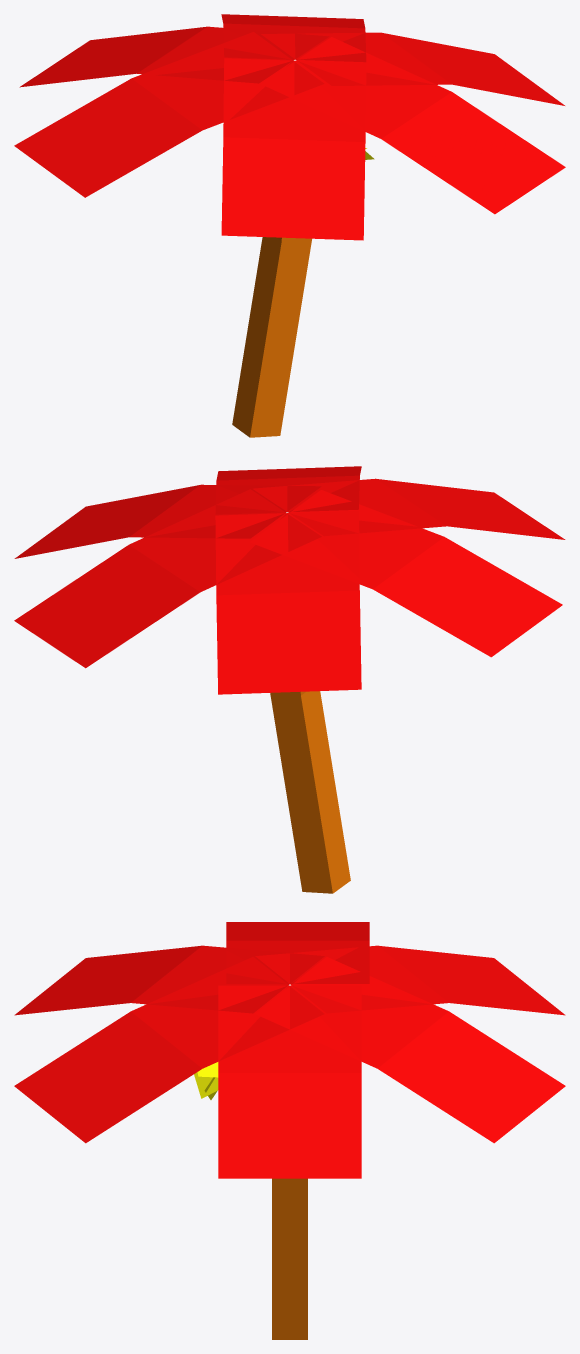
Rendered from MAYAPPLE.obj.
The picture shows the model from 3 angles, top to bottom: view 1: azimuth 30°, elevation 25°; view 2: azimuth 150°, elevation 25°; view 3: azimuth 270°, elevation 25°; orthographic projection.
Visible parts, largest first — view 1: cube; view 2: cube; view 3: cube.
Part boxes in pixels (box(x1,y1,x2,y2)): cube: box(14, 14, 565, 437); cube: box(14, 466, 565, 893); cube: box(14, 922, 565, 1339).
Size of the model in its own units: 0.4838 by 0.3547 by 0.4808.
